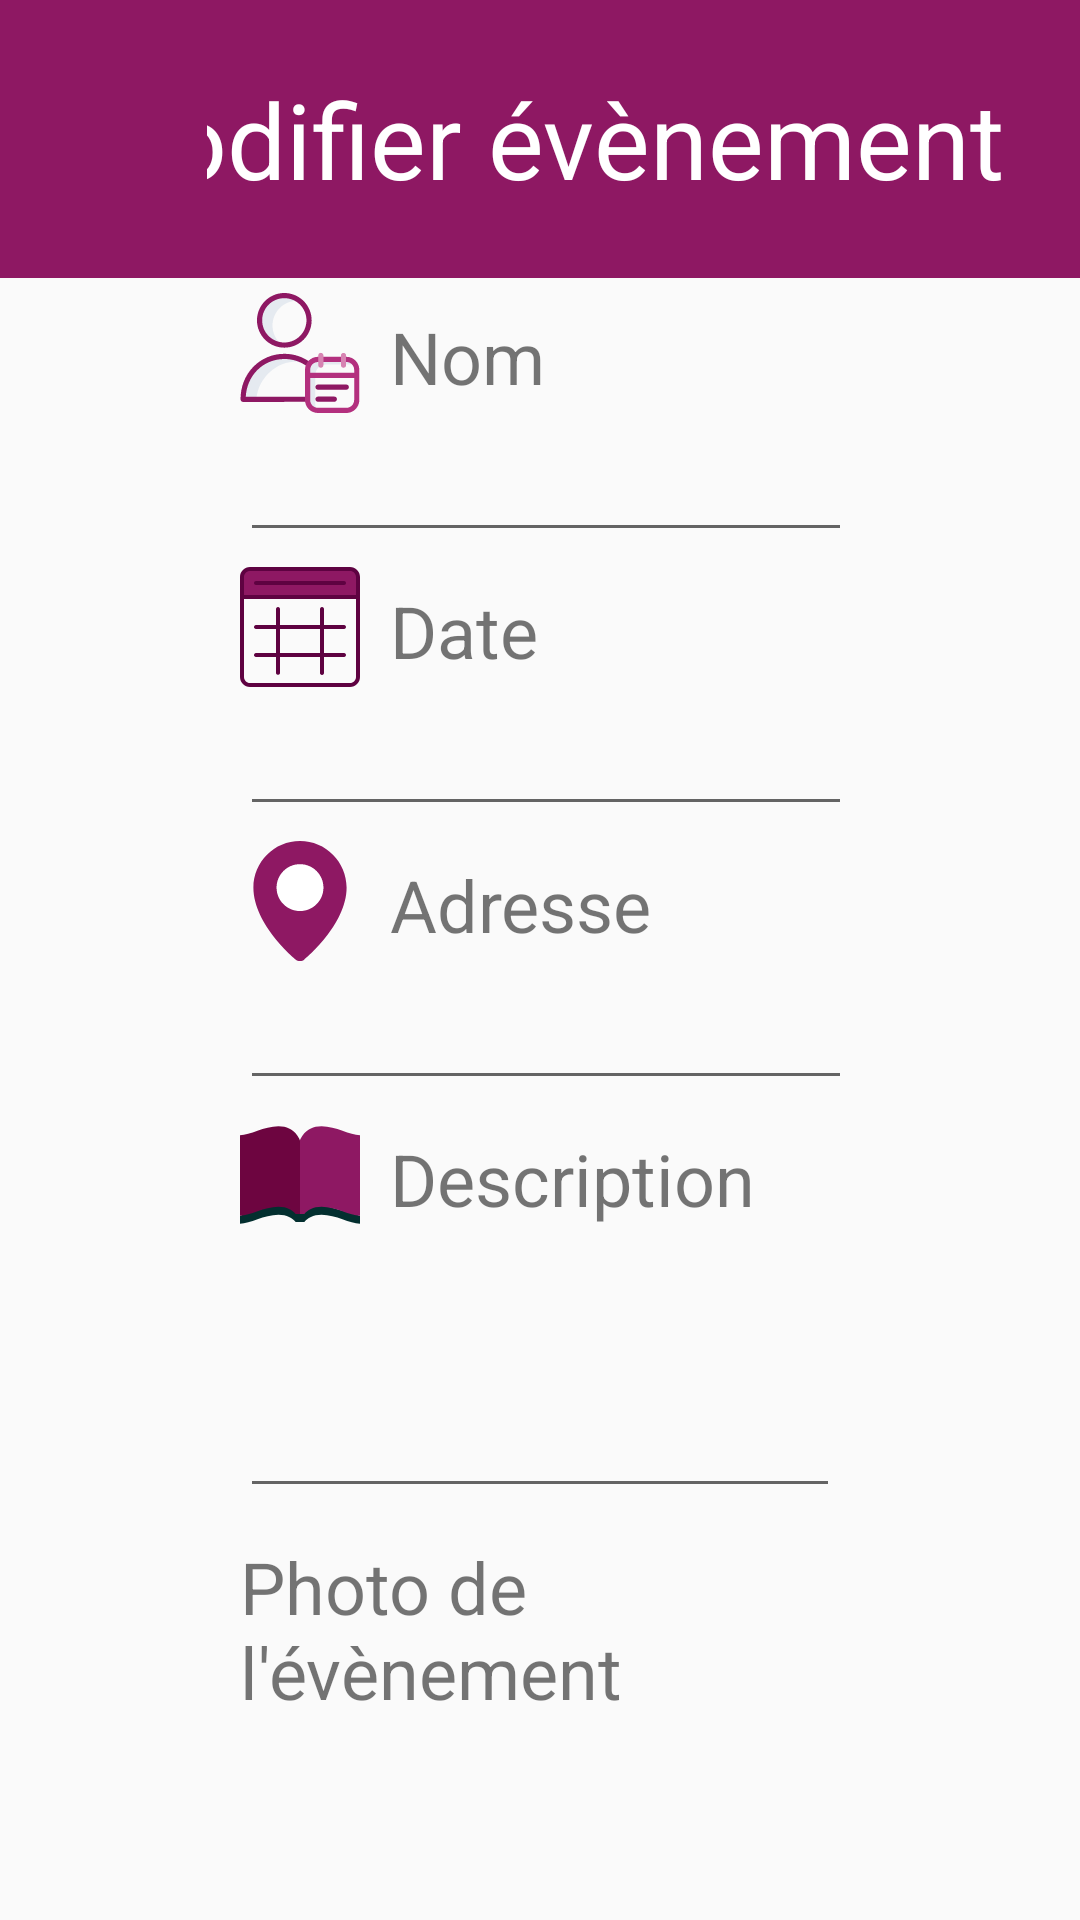

Where to tap for icons on this 1080px x 1920px app screen, as point (x, y):
book: point (300, 1175)
event: point (300, 627)
user: point (300, 353)
